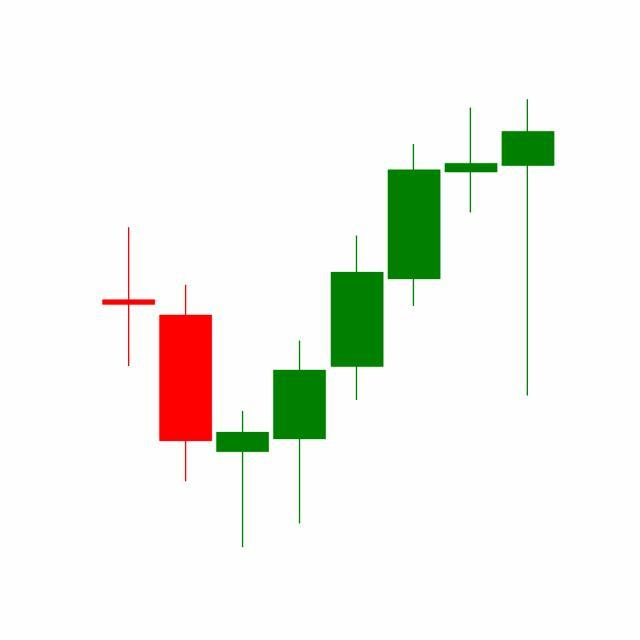Advance Block: (328, 105, 500, 405)
